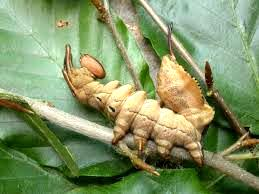Lobster Moth: (56, 39, 211, 174)
